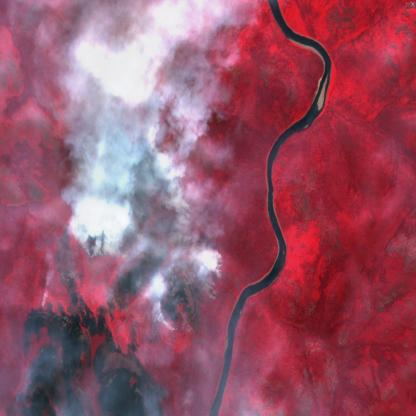fire: (71, 106, 227, 301)
